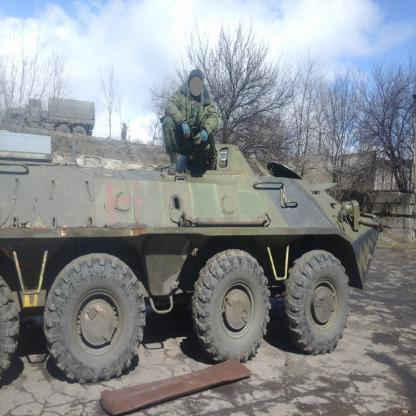MIL_IFV: (0, 145, 383, 381)
